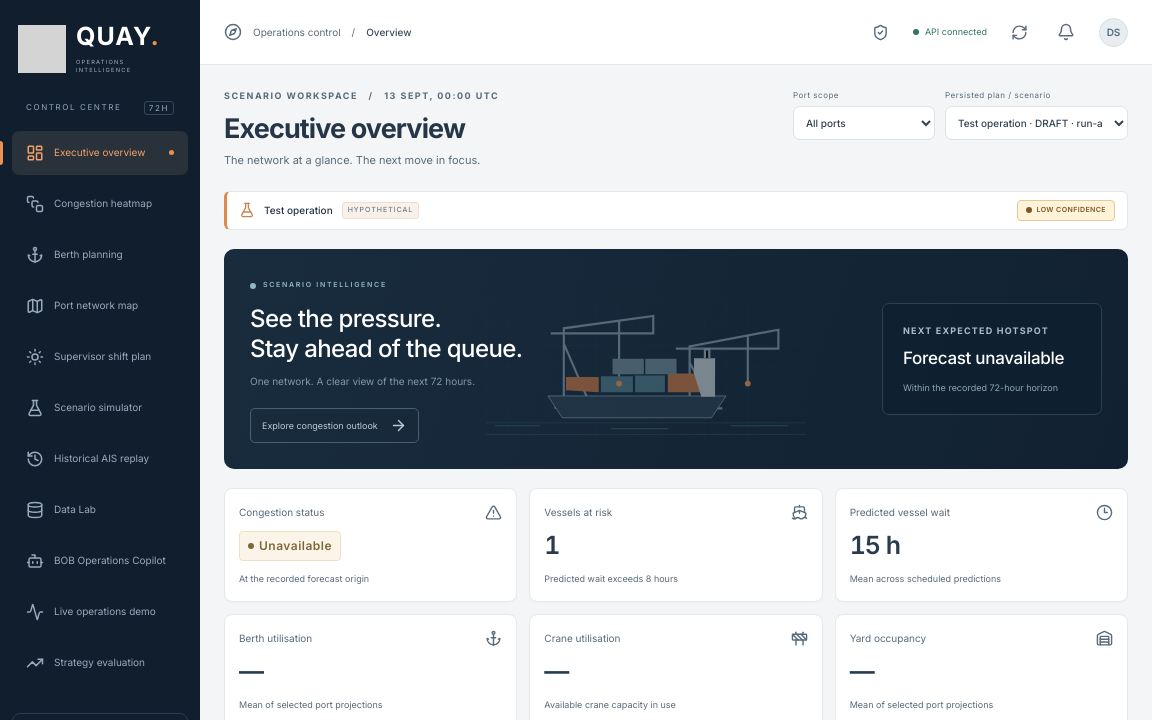
operations command centre › prevents operational approval of hypothetical scenarios
This screenshot has width=1152, height=720.
What coordinates should you click on to do the following:
click the button "Supervisor shift plan"
I would click on:
 (100, 357)
Its box is x1=12 y1=335 x2=188 y2=379.
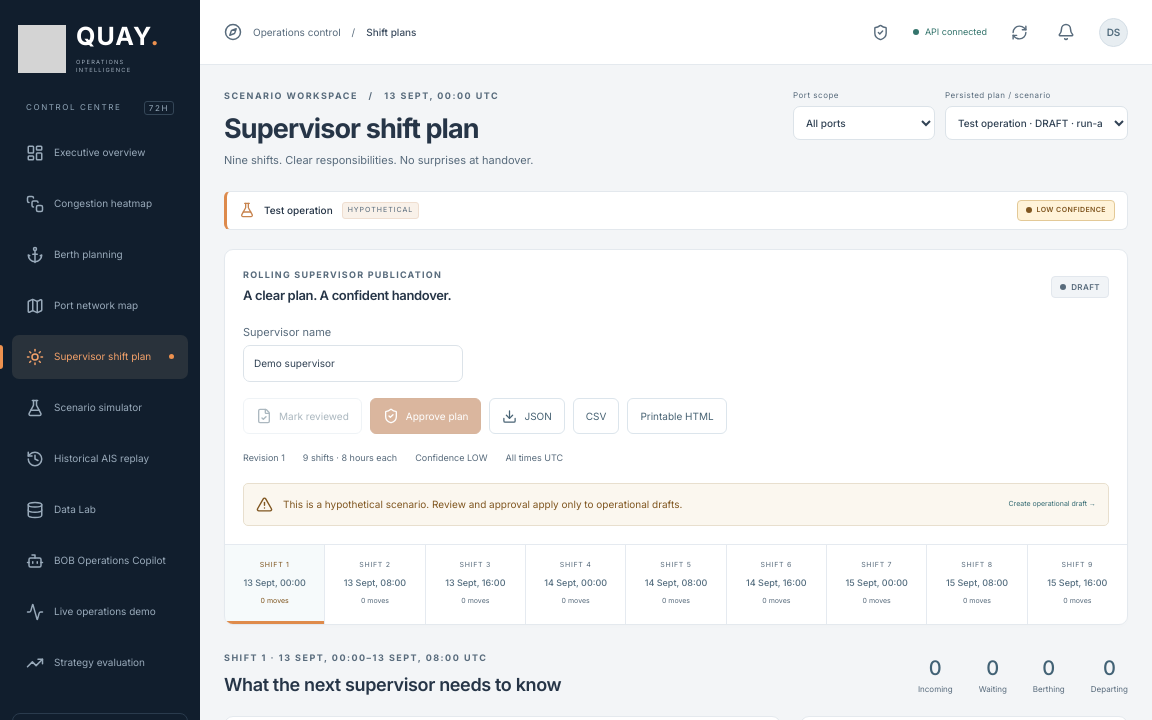
Check: the button "Create operational draft →" is enabled, box x1=1008 y1=496 x2=1096 y2=512
Check: the button "Mark reviewed" is disabled, box x1=243 y1=398 x2=362 y2=434
Check: the button "Approve plan" is disabled, box x1=370 y1=398 x2=482 y2=434
